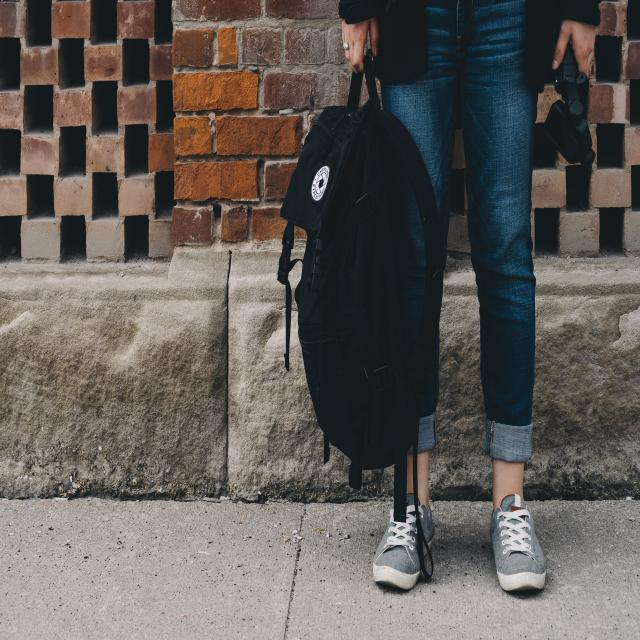backpack: (284, 53, 444, 469)
